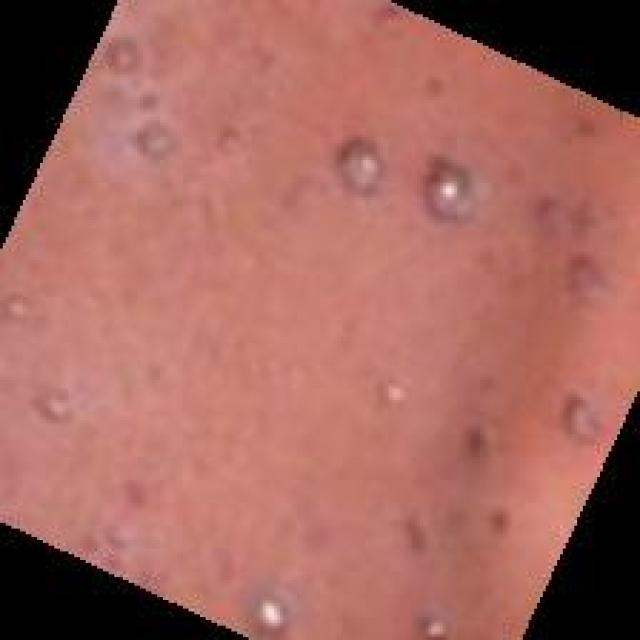others: (68, 18, 588, 640)
